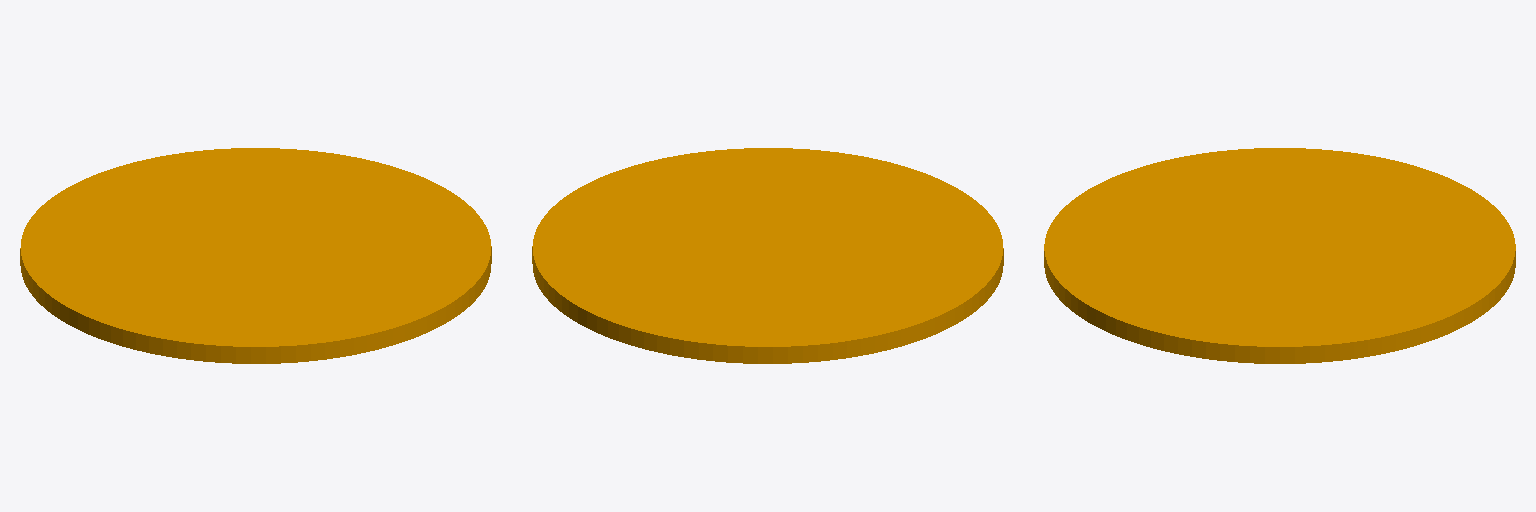
The robot description file, URDF, robot "arm":
<?xml version="1.0"?>
<robot name="arm">
  <link name="base_link">
    <visual>
    <origin rpy="0 0 0" xyz="0 0 0"/>
      <geometry>
	      <mesh filename="package://servo_control/mesh/base.stl"/>
      </geometry>
    </visual>
  </link>
</robot>

--- Facts derived from the render (not from the file) ---
The picture shows the robot from 3 angles, left to right: view 1: azimuth 30°, elevation 25°; view 2: azimuth 150°, elevation 25°; view 3: azimuth 270°, elevation 25°; orthographic projection.
Robot: arm — 1 links, 0 joints (none); root link base_link; default pose: every joint at zero.
Links seen in each view (by area): view 1: base_link; view 2: base_link; view 3: base_link.
Link boxes in pixels (bbox=[...]): base_link: bbox=[20, 148, 491, 363]; base_link: bbox=[532, 148, 1003, 363]; base_link: bbox=[1044, 148, 1515, 363].
Size in the robot's own frame: 50 by 49.97 by 2 metres.
1 mesh visuals loaded from 1 distinct referenced files (1 binary STL).